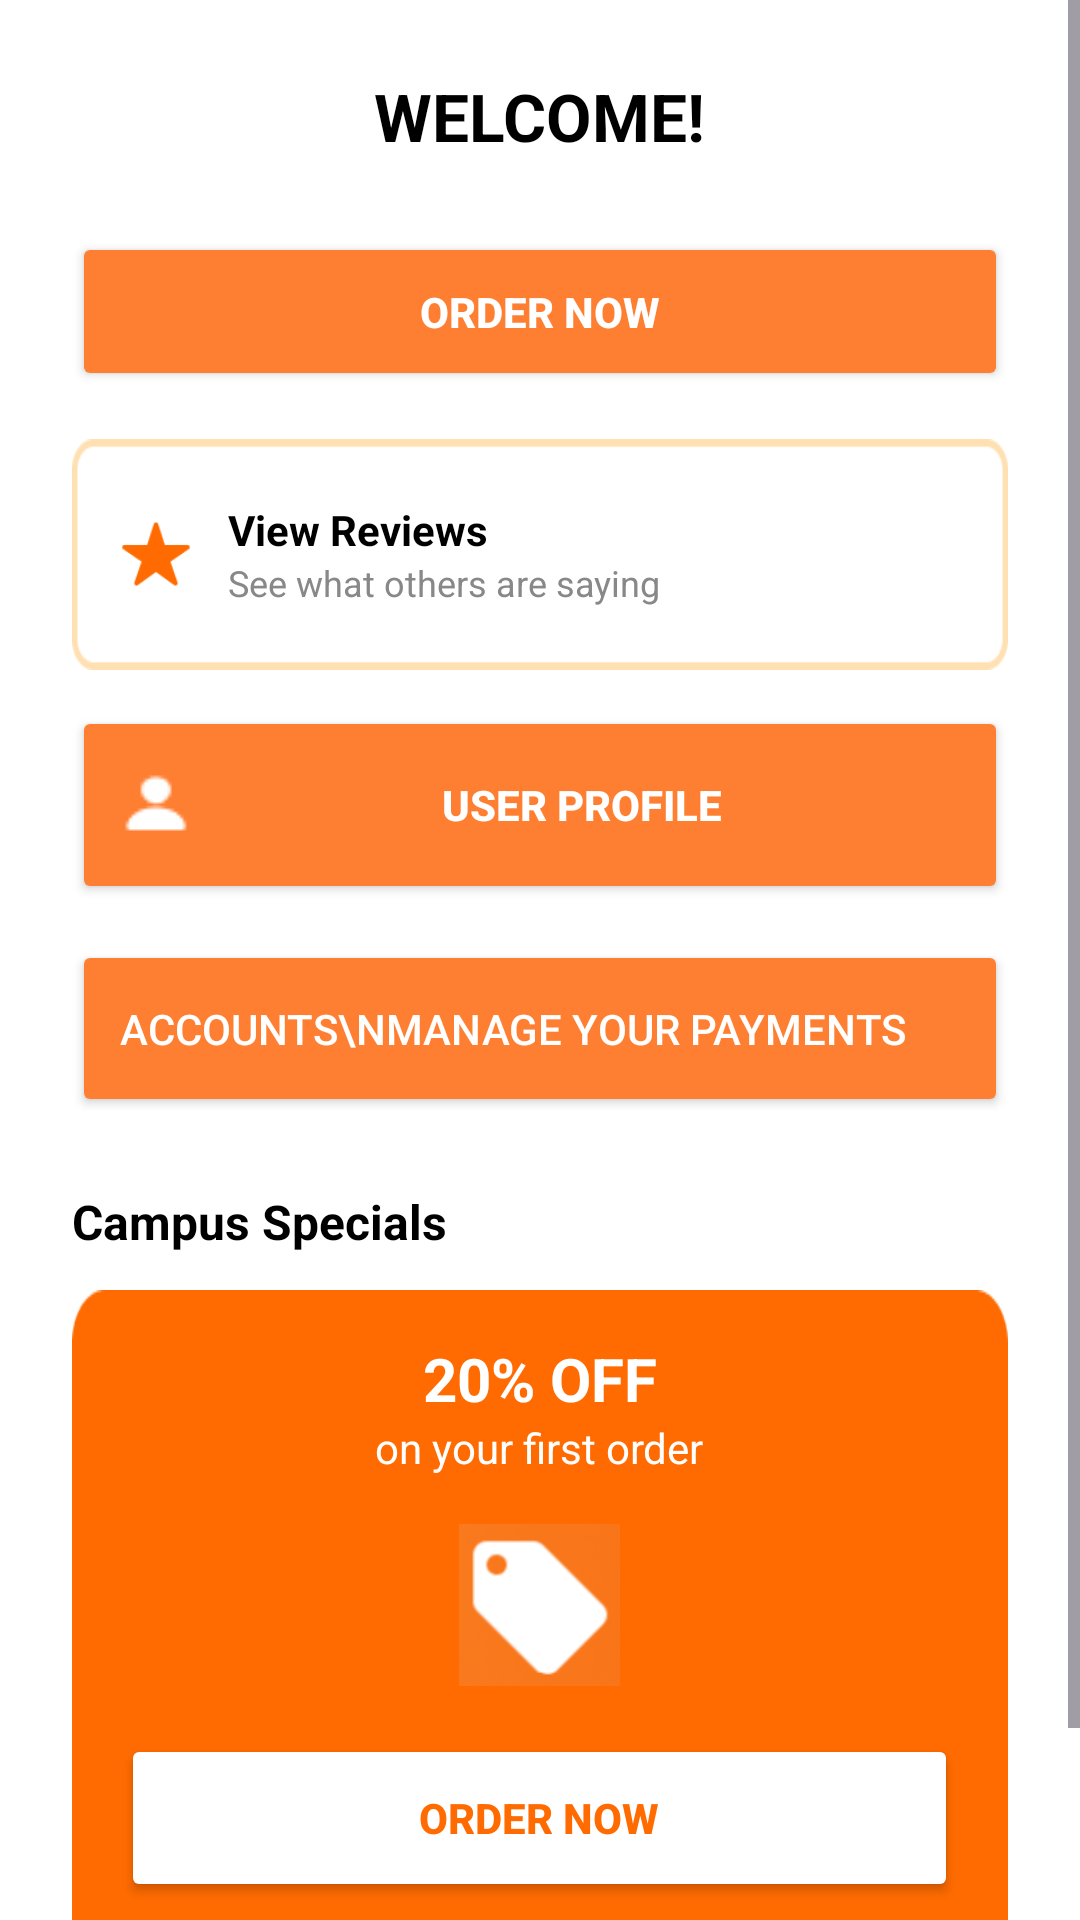

Icon bounding boxes for this 1080×1920 phone screenshot, format (x1, y1, x2, y2):
star: (122, 522, 190, 586)
tag: (459, 1524, 620, 1686)
